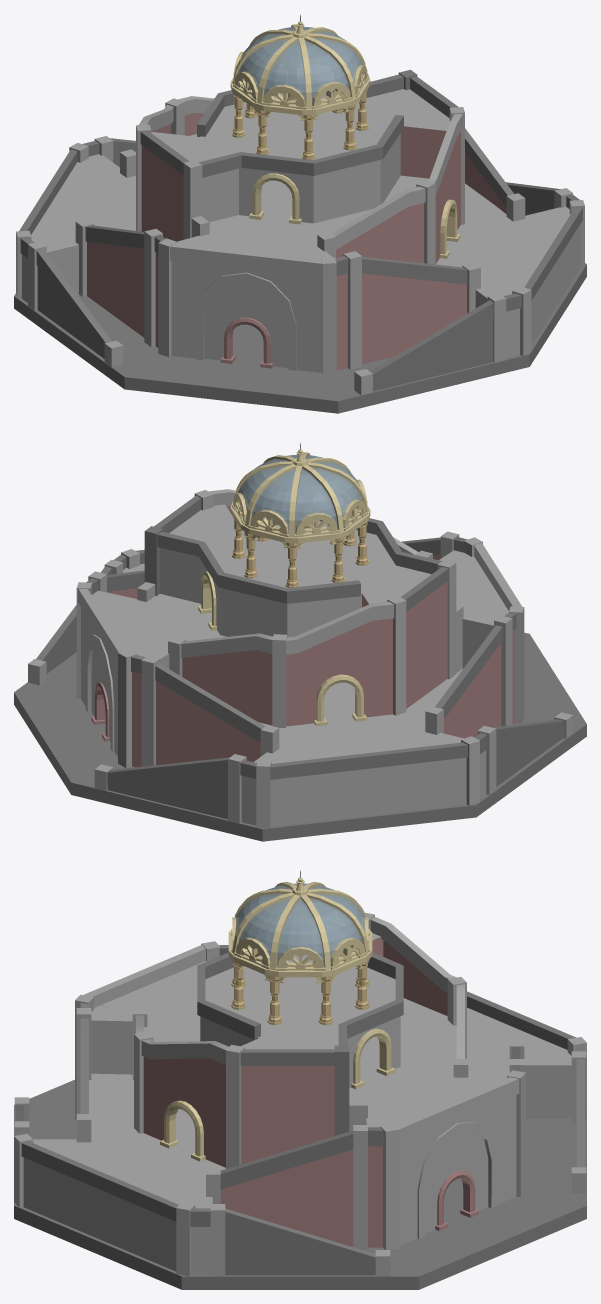
The model's file is Model_HubTemple(untextured).fbx.
3 renders of one model, top to bottom at view 1: azimuth 30°, elevation 25°; view 2: azimuth 150°, elevation 25°; view 3: azimuth 270°, elevation 25°, orthographic. The views are drawn at different scales.
Parts seen in each view (by area): view 1: pCube74, pCylinder138, pCylinder126, pCylinder117, polySurface156, pCube49, pCylinder119, pCylinder139, OutWall, pCylinder143, polySurface205, pCube41 (+28 smaller); view 2: pCylinder126, pCylinder117, pCylinder143, pCylinder138, polySurface156, pCylinder119, pCube75, pCube51, polySurface202, pCube70, OutWall, pCube23 (+28 smaller); view 3: pCylinder126, pCylinder117, pCube75, pCylinder119, pCylinder139, polySurface156, pCylinder138, pCube55, pCube39, pCube38, pCube57, pCube19 (+22 smaller).
Part boxes in pixels (x1,y1,x2,y2): pCube74: (158, 238, 336, 374); pCylinder138: (151, 89, 449, 223); pCylinder126: (22, 154, 580, 358); pCylinder117: (14, 263, 586, 413); polySurface156: (230, 14, 370, 159); pCube49: (336, 273, 466, 370); pCylinder119: (177, 134, 428, 259); pCylinder139: (336, 131, 460, 263); OutWall: (87, 241, 158, 347); pCylinder143: (141, 112, 203, 241); polySurface205: (199, 115, 403, 177); pCube41: (373, 316, 493, 391); pCylinder126: (99, 561, 506, 826); pCylinder117: (14, 632, 586, 841); pCylinder143: (182, 582, 447, 726); pCylinder138: (160, 504, 431, 637); polySurface156: (230, 442, 370, 587); pCylinder119: (92, 550, 508, 668); pCube75: (76, 582, 137, 768); pCube51: (132, 672, 260, 767); polySurface202: (157, 531, 360, 603); pCube70: (181, 601, 394, 657); OutWall: (444, 629, 515, 738); pCube23: (270, 742, 467, 779); pCylinder126: (23, 1005, 571, 1274); pCylinder117: (14, 1079, 586, 1289); pCube75: (380, 1070, 525, 1249); pCylinder119: (91, 961, 506, 1127); pCylinder139: (143, 1057, 334, 1167); polySurface156: (228, 870, 372, 1025); pCylinder138: (200, 933, 400, 1088); pCube55: (220, 1146, 382, 1247); pCube39: (225, 1227, 375, 1275); pCube38: (190, 1208, 375, 1272); pCube57: (220, 1127, 383, 1189); pCube19: (21, 1141, 178, 1221).
Size of the model in its own units: 3907 by 2247 by 3907.
